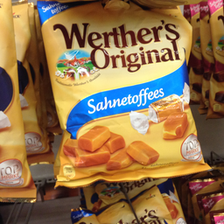candy: (42, 2, 213, 179)
